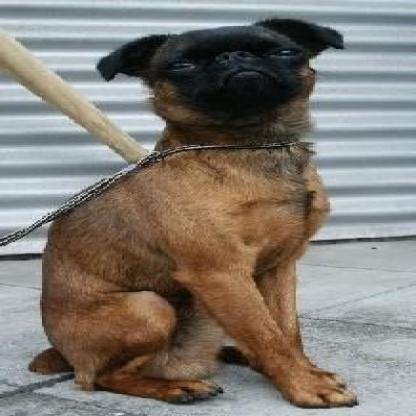Brabancon_griffon: (29, 16, 358, 408)
